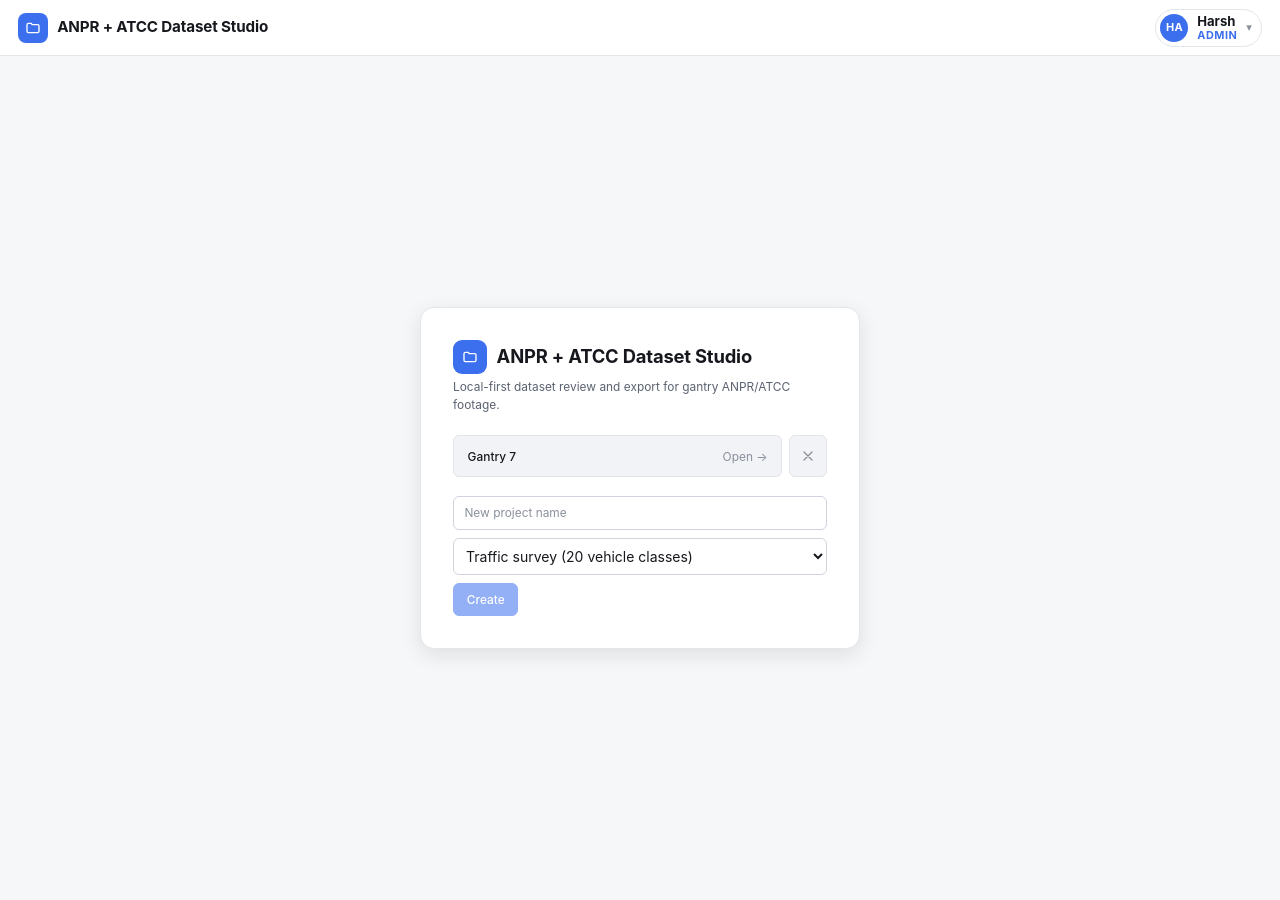
Scenario: an admin's tasks › assigns a source to someone
Click the button "Gantry 7 Open →": x=492, y=456 [453,435,782,477]
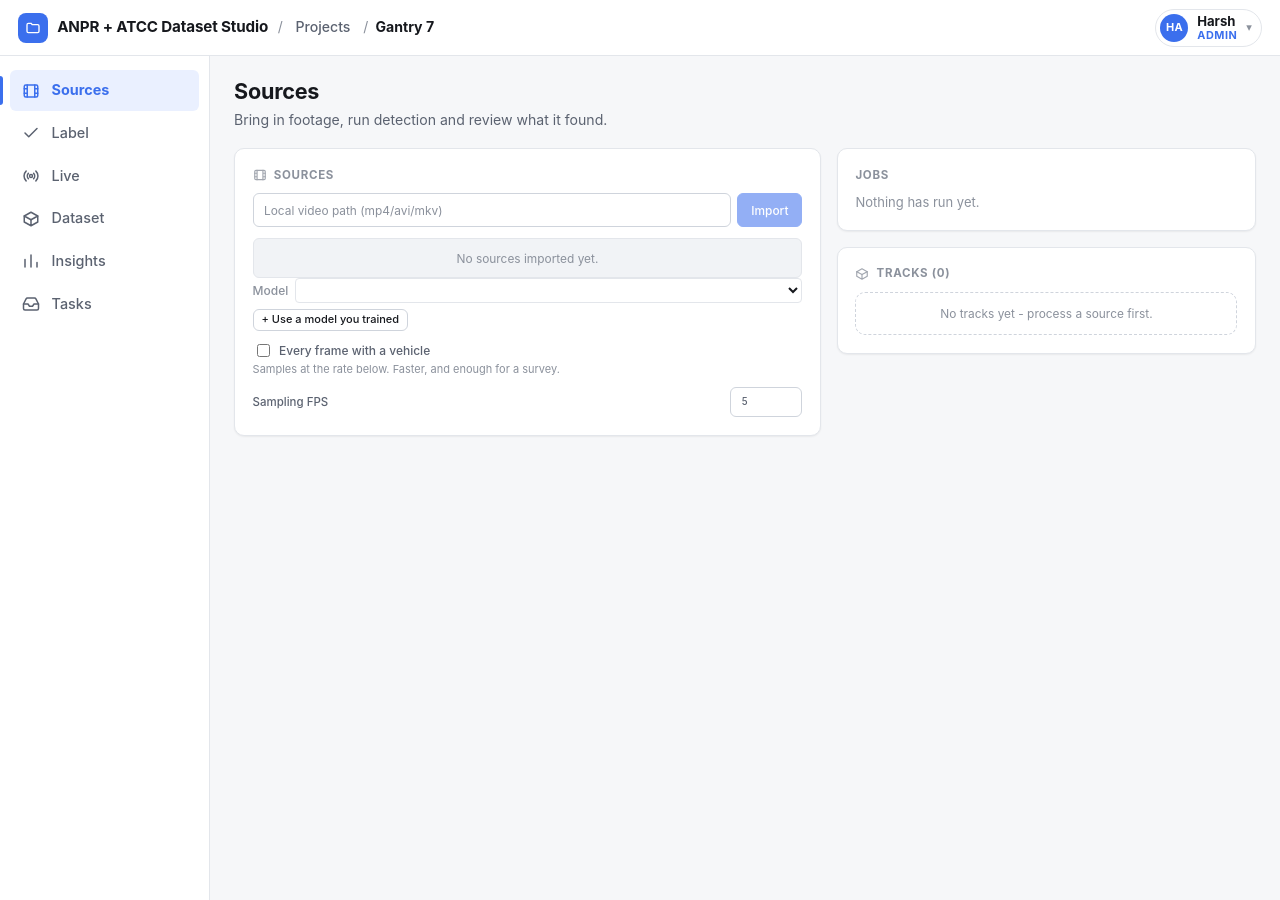
Click the button "Tasks": x=104, y=304 [10,284,199,324]
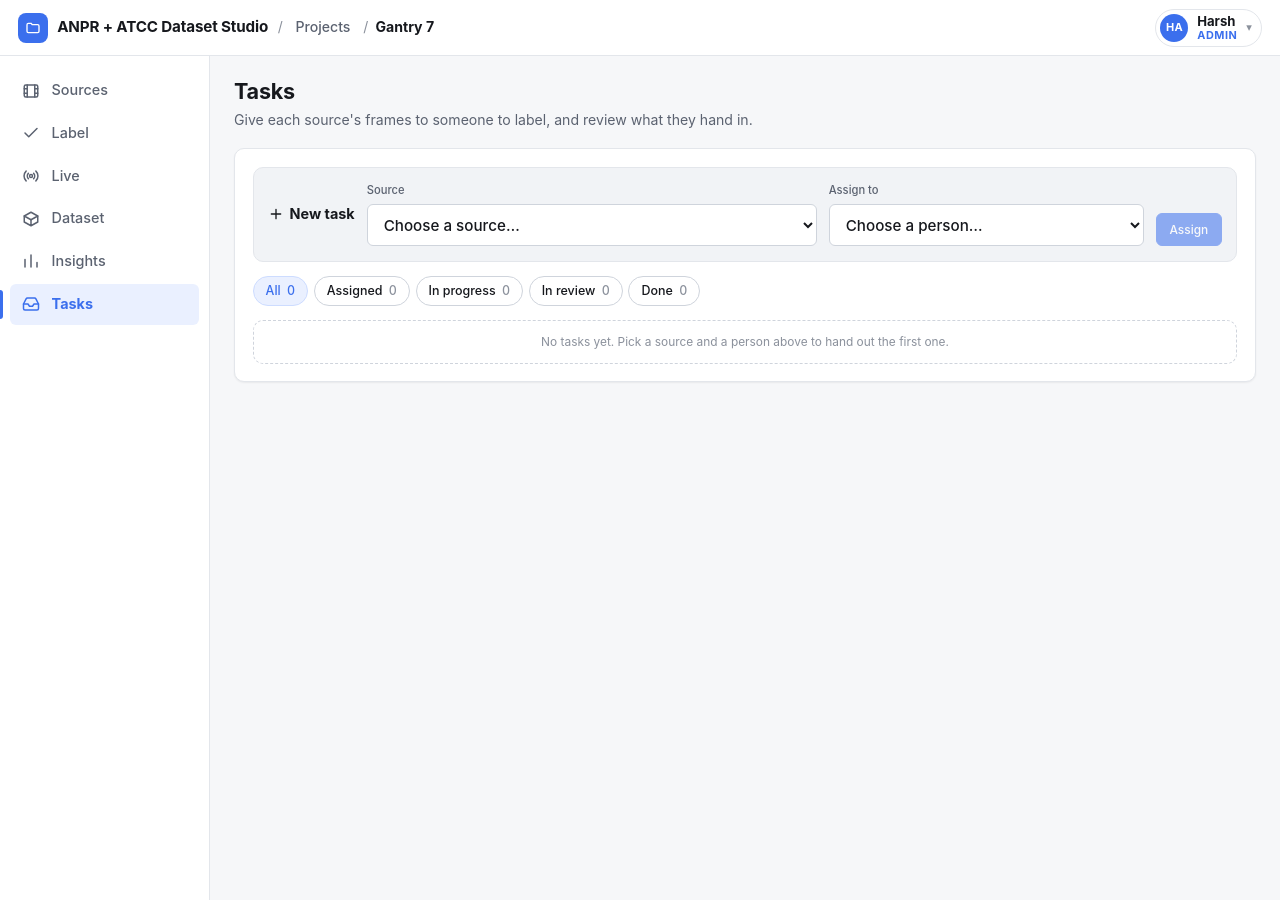
Select "10.0.0.5 · ch 1 · 3 frames, 2 pending" in the dropdown named "source to assign": x=592, y=225 [367,204,817,246]
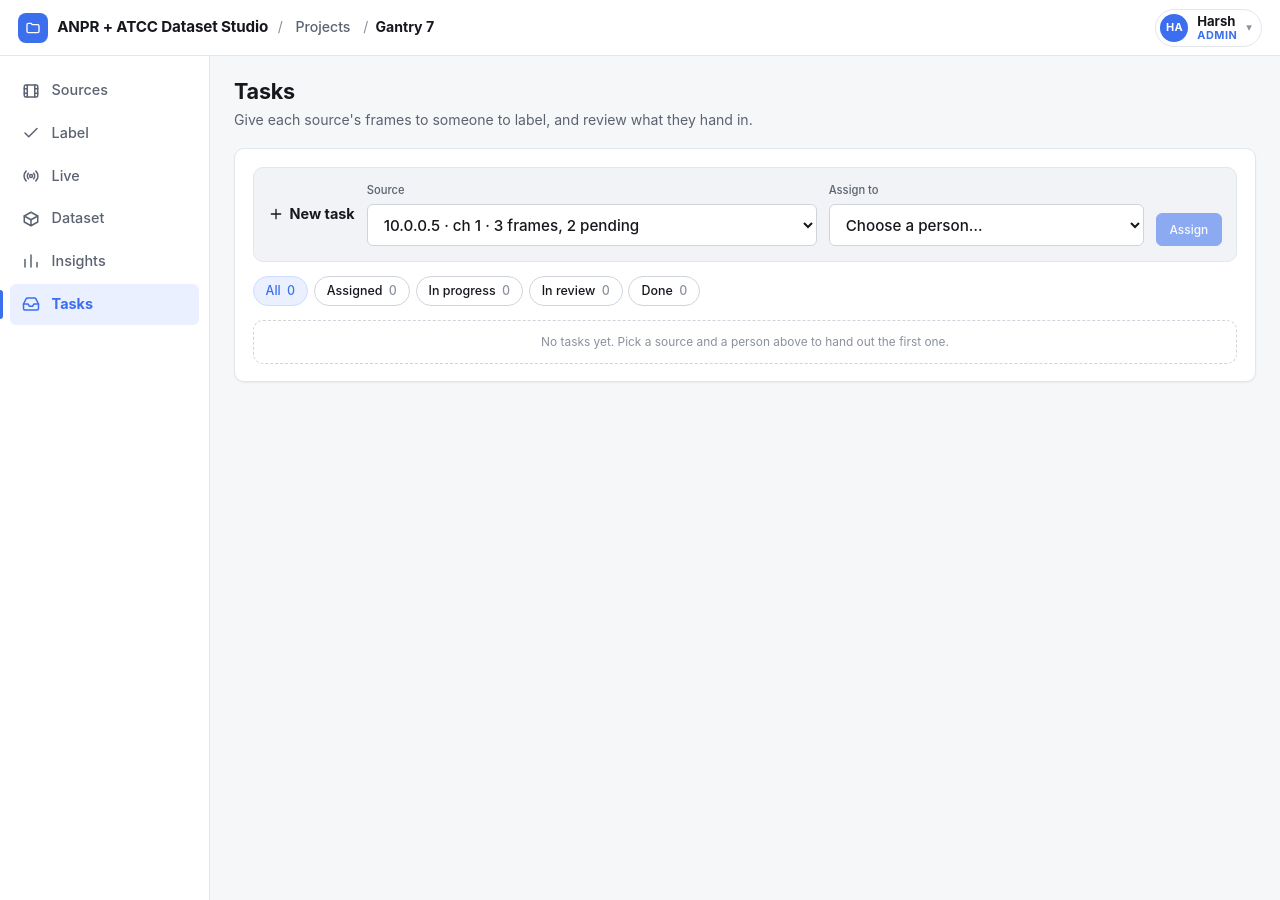
Select "Ravi (@ravi)" in the dropdown labelled "Assign to": x=986, y=225 [829,204,1144,246]
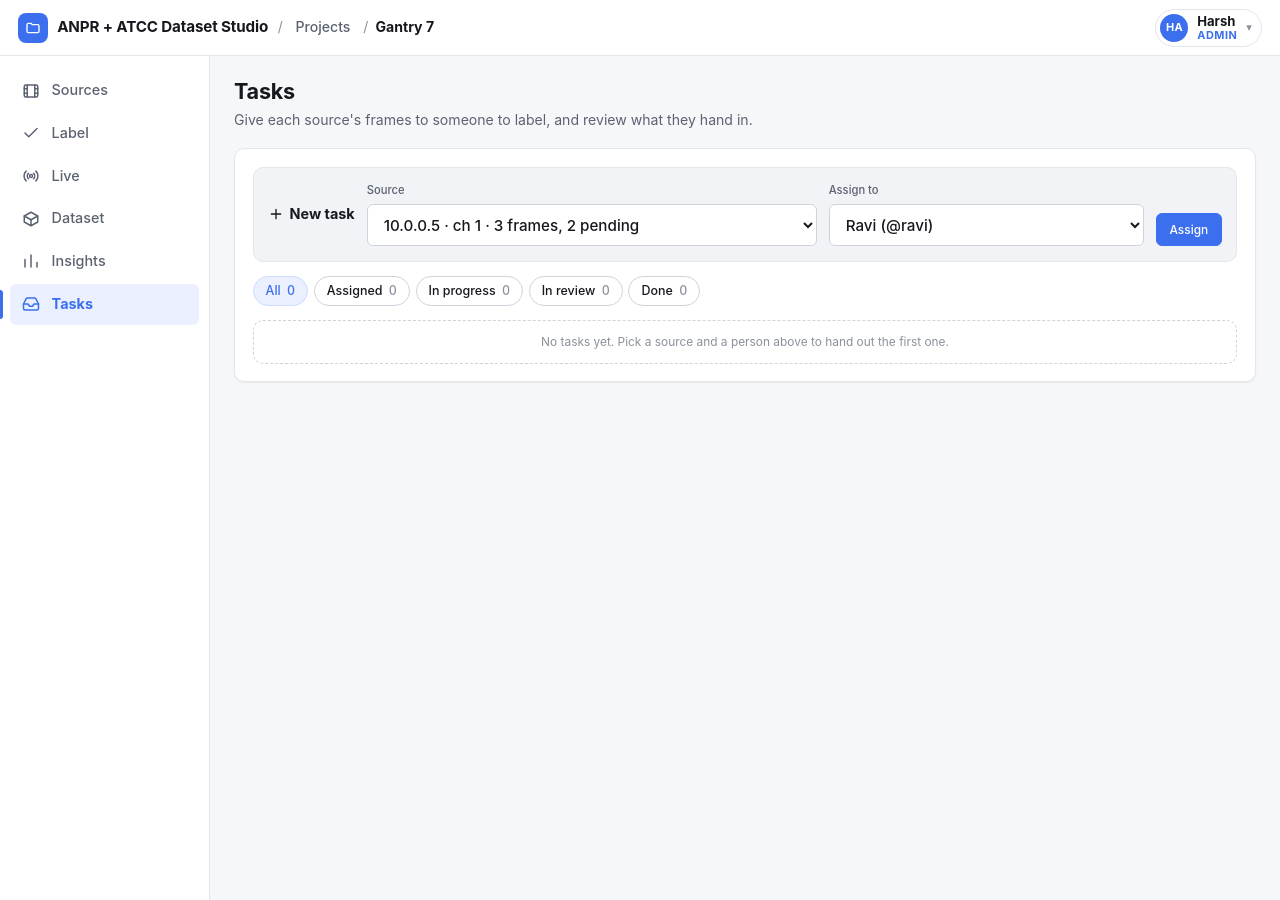
Click the button "Assign": x=1189, y=230 [1156,213,1222,246]
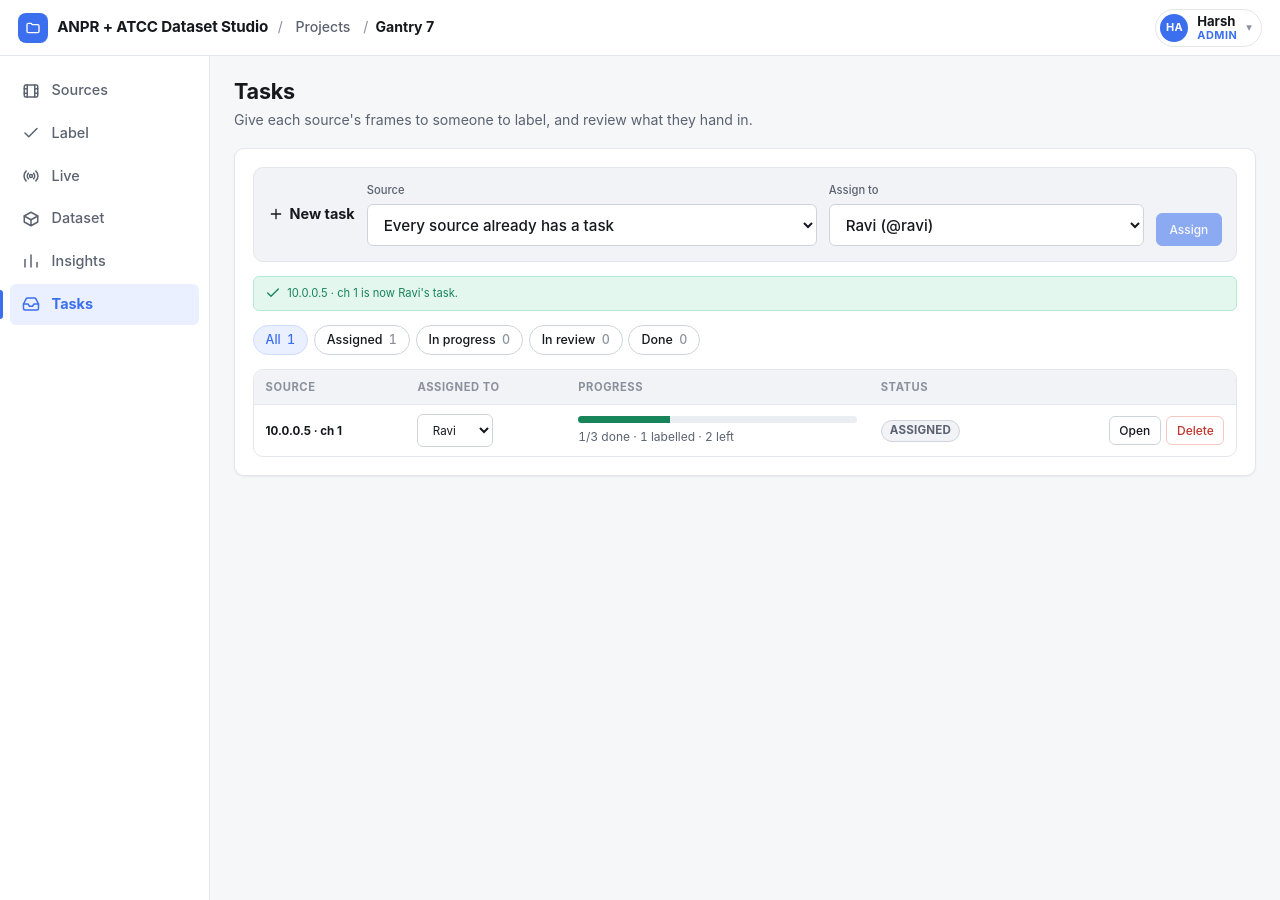
Result: the text "10.0.0.5 · ch 1 is now Ravi's task." is shown at [253,276,1237,310]
